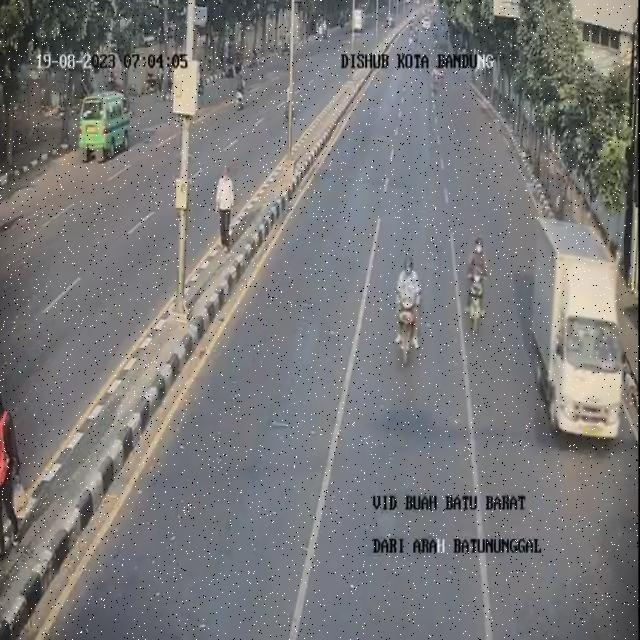motorcycle: (394, 246, 424, 366), (462, 236, 490, 330)
truck: (524, 210, 624, 447)
